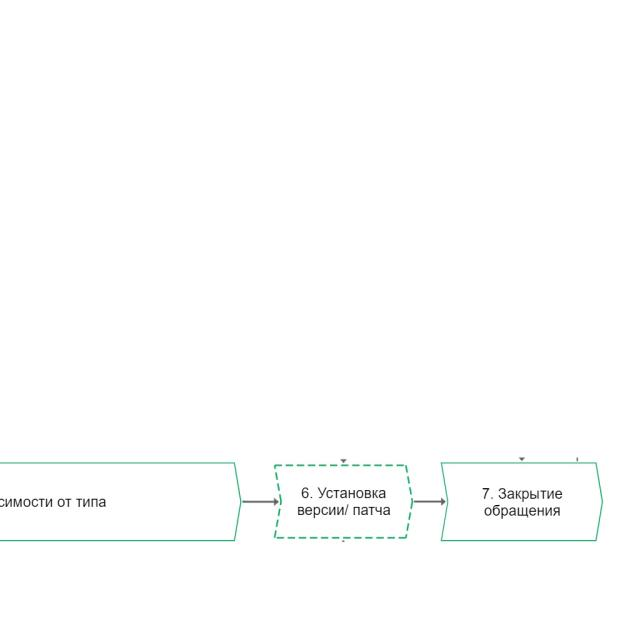arrow: (242, 499, 278, 505), (414, 499, 445, 504)
rectangle: (440, 461, 604, 542), (272, 463, 413, 540)
